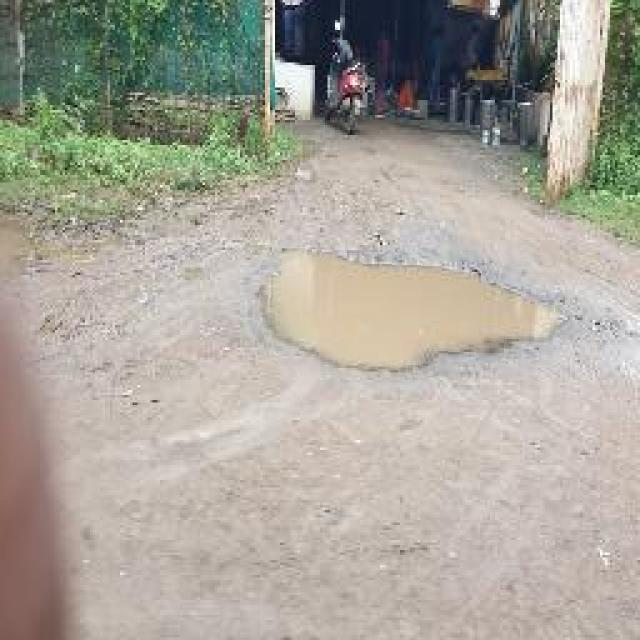puddle: (258, 251, 556, 380)
